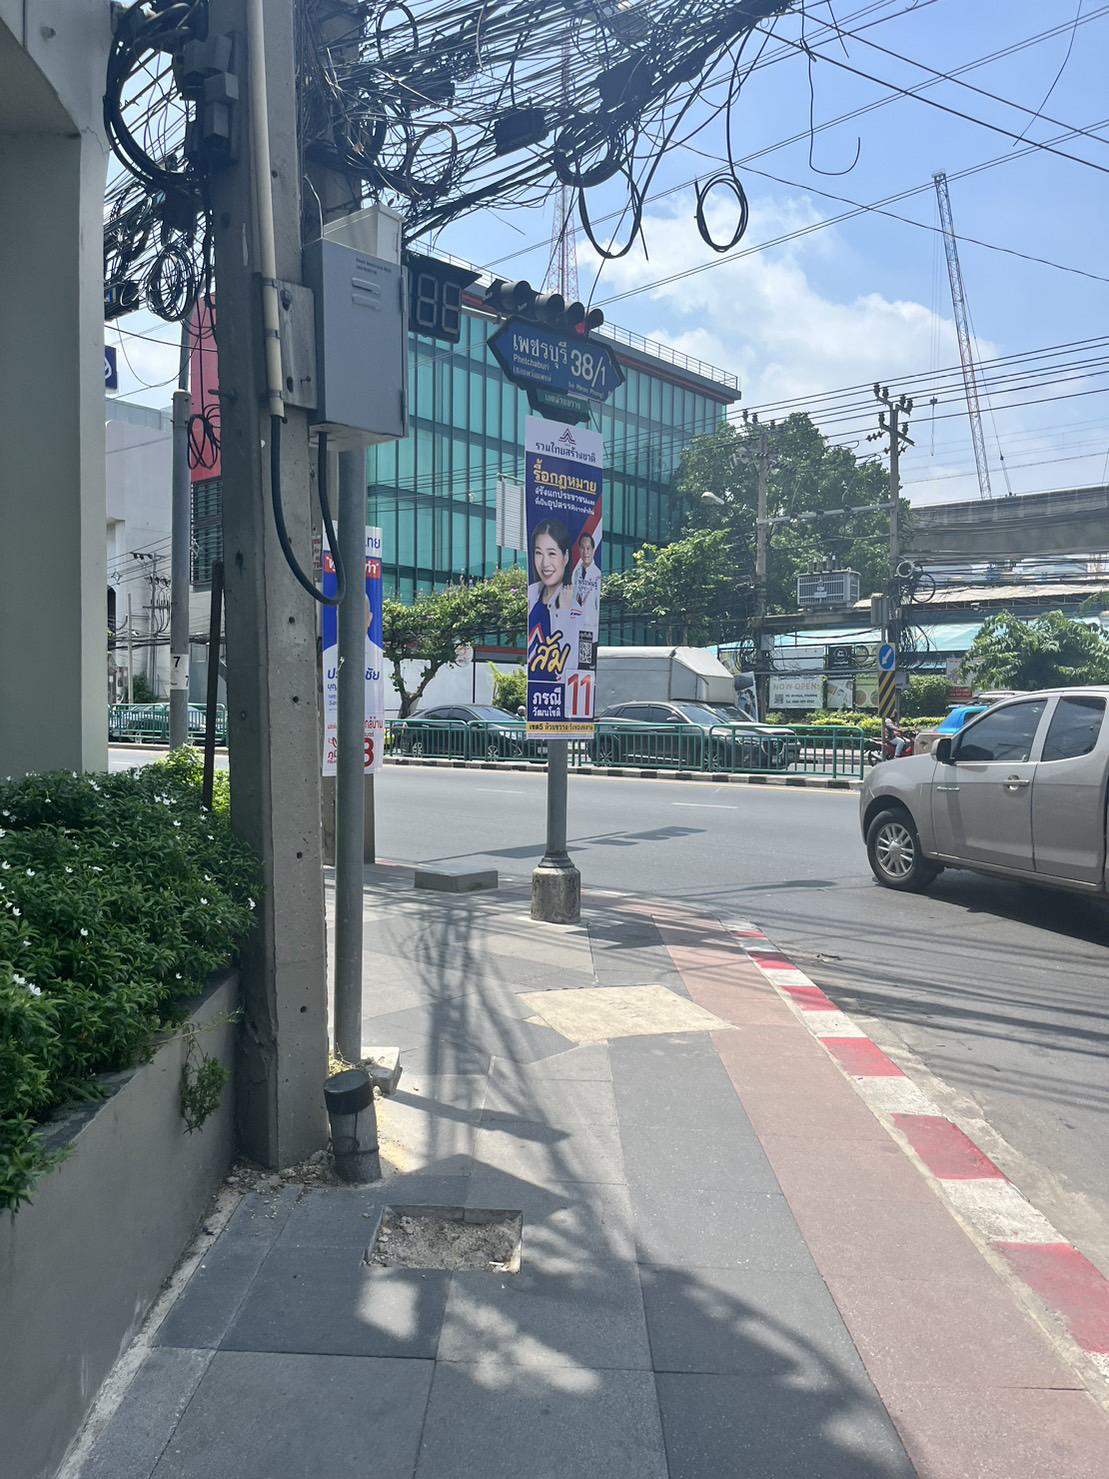Banner: (513, 410, 614, 746)
